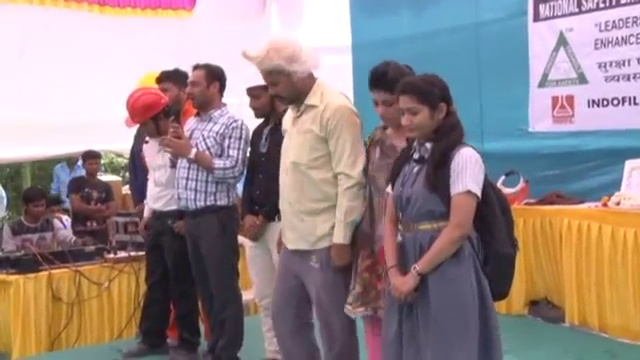helmet: (123, 87, 170, 129), (242, 68, 275, 92)
helmet_off: (250, 35, 319, 106), (395, 72, 458, 144), (362, 60, 417, 137), (184, 62, 227, 118), (153, 71, 189, 109), (20, 188, 49, 225), (81, 151, 103, 181), (48, 193, 66, 224), (65, 153, 80, 172)
helmet_on: (123, 86, 177, 143), (243, 68, 275, 122)
person: (380, 69, 513, 360), (252, 36, 363, 359), (169, 55, 247, 360), (349, 59, 416, 359), (114, 86, 177, 359), (238, 64, 286, 359), (3, 187, 79, 256), (67, 150, 112, 245), (50, 153, 85, 206)
